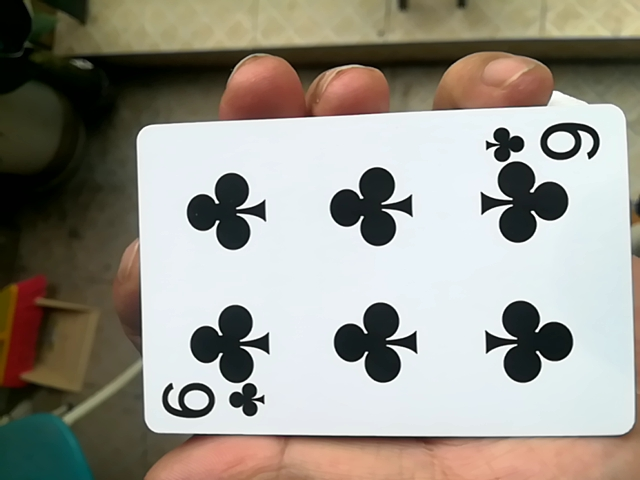mh 6: (130, 104, 628, 451)
